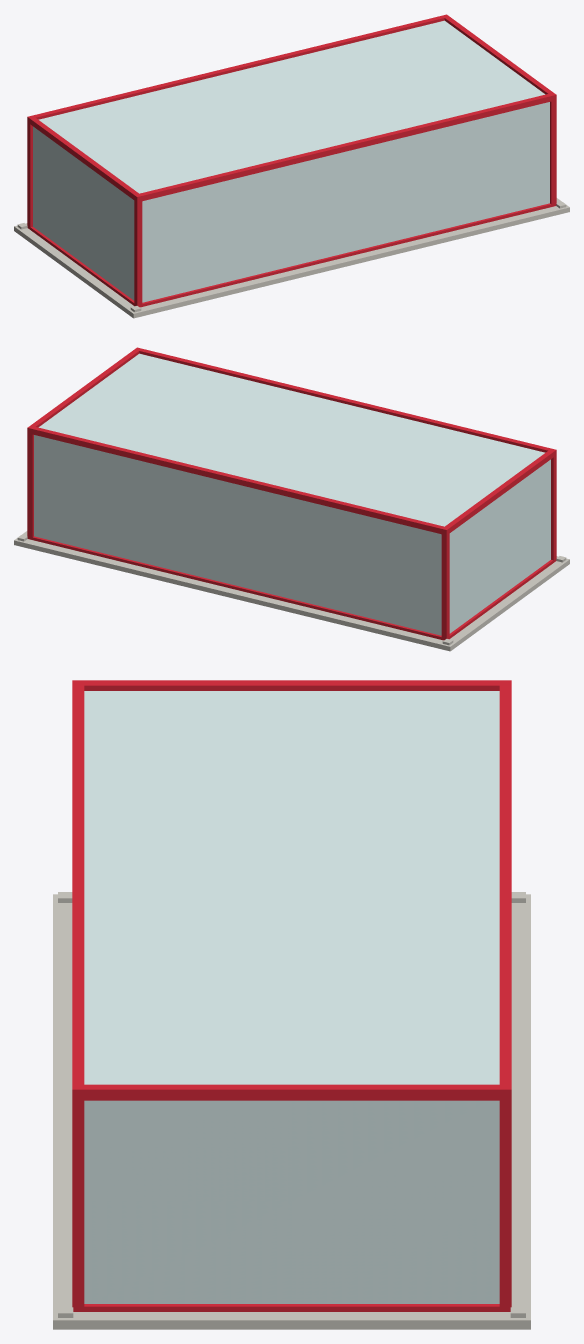
Rendered from bugatti-chiron.glb.
3 views of the same model, one above another, from view 1: azimuth 30°, elevation 25°; view 2: azimuth 150°, elevation 25°; view 3: azimuth 270°, elevation 25° (orthographic). The views are drawn at different scales.
Size of the model in its own units: 0.59 by 0.1495 by 0.28.
